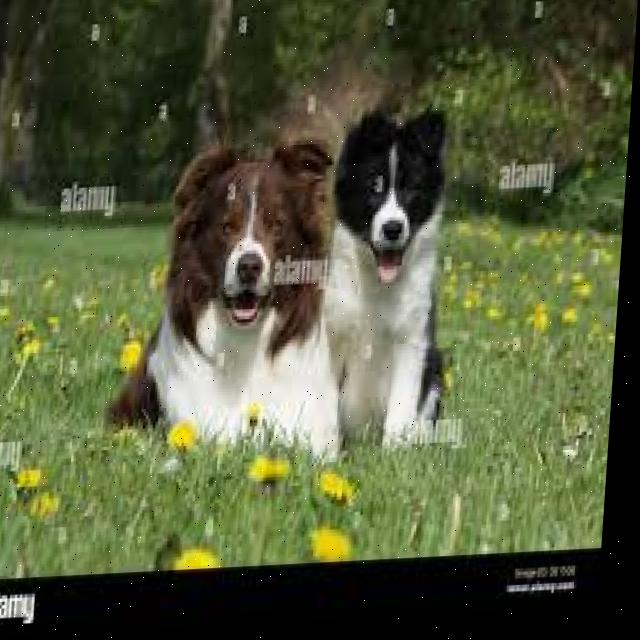BORDER_COLLIE: (117, 134, 357, 480), (318, 103, 476, 468)
